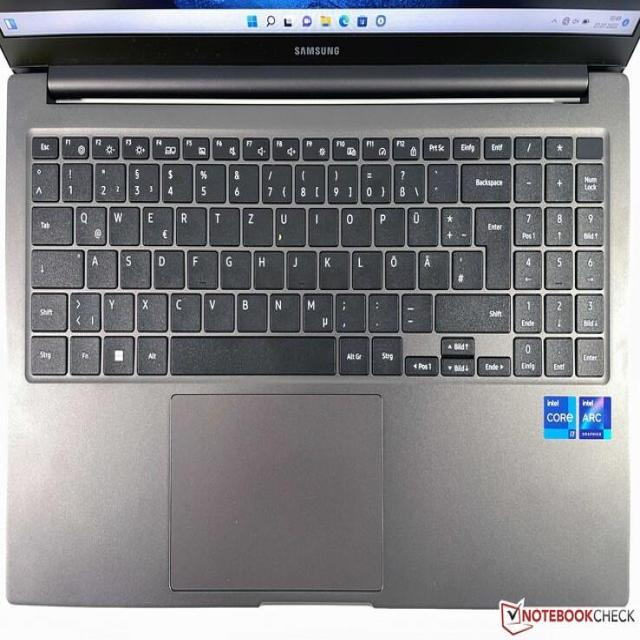0: (357, 158, 388, 200)
1: (58, 158, 89, 199)
2: (91, 158, 123, 199)
3: (125, 158, 157, 199)
4: (159, 158, 190, 199)
5: (191, 158, 223, 200)
6: (225, 158, 256, 200)
7: (259, 159, 290, 200)
8: (291, 159, 322, 200)
9: (324, 159, 355, 200)
a: (84, 245, 116, 285)
accent: (424, 158, 455, 199)
ae: (416, 245, 448, 286)
alt-left: (134, 333, 166, 373)
altgr-right: (336, 332, 367, 372)
b: (234, 288, 265, 329)
c: (167, 288, 200, 329)
caret: (28, 158, 56, 199)
comma: (332, 288, 363, 329)
d: (149, 245, 182, 286)
del: (458, 157, 510, 200)
e: (139, 201, 171, 243)
enter: (472, 202, 509, 288)
f: (183, 245, 215, 285)
g: (216, 245, 248, 286)
h: (250, 246, 281, 287)
hash: (449, 245, 480, 286)
i: (305, 202, 336, 244)
j: (283, 245, 313, 286)
k: (316, 245, 347, 286)
keyboard: (20, 122, 611, 384)
l: (349, 245, 380, 286)
less: (66, 288, 98, 329)
m: (299, 289, 330, 330)
minus: (397, 289, 430, 329)
n: (267, 289, 298, 329)
o: (338, 202, 370, 244)
oe: (382, 246, 414, 288)
p: (371, 202, 403, 244)
plus: (437, 201, 469, 243)
point: (365, 289, 397, 329)
q: (71, 201, 105, 243)
r: (172, 202, 205, 244)
s: (116, 245, 148, 285)
shift-left: (26, 288, 65, 329)
shift-lock: (28, 245, 82, 285)
shift-right: (432, 289, 509, 329)
space: (166, 332, 334, 372)
ss: (391, 158, 422, 200)
strg-left: (25, 332, 65, 373)
strg-right: (369, 333, 400, 373)
t: (206, 202, 238, 244)
tab: (28, 201, 70, 243)
u: (272, 202, 303, 244)
ue: (403, 201, 436, 244)
v: (201, 289, 232, 329)
w: (105, 201, 138, 243)
x: (134, 288, 165, 329)
y: (100, 288, 133, 329)
z: (240, 202, 271, 244)
